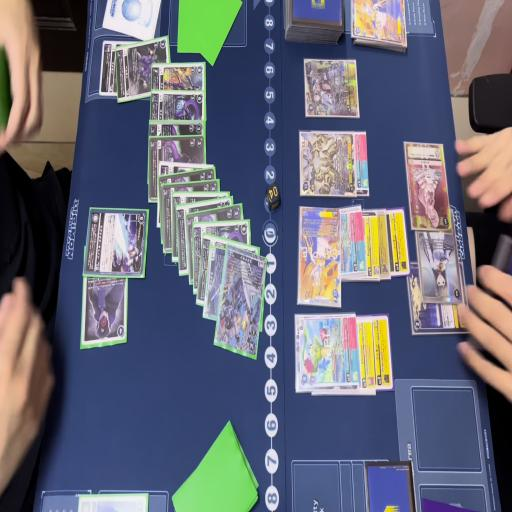card: (214, 244, 266, 358), (178, 204, 243, 291), (295, 313, 360, 391), (189, 220, 251, 300), (83, 207, 148, 278), (297, 207, 341, 307), (159, 179, 219, 252), (176, 198, 234, 273), (404, 142, 452, 231), (407, 262, 464, 335), (148, 135, 208, 203), (169, 191, 229, 258), (114, 36, 168, 107), (415, 230, 465, 304), (300, 132, 356, 196), (81, 277, 128, 348), (304, 58, 359, 118), (350, 0, 407, 52), (196, 233, 228, 305), (339, 205, 368, 278), (151, 60, 209, 89), (151, 90, 207, 120), (386, 207, 410, 276), (203, 246, 225, 320), (362, 210, 381, 280), (79, 493, 148, 512), (374, 317, 392, 388), (159, 163, 217, 185), (149, 120, 208, 141), (358, 320, 376, 388), (97, 37, 118, 95), (157, 158, 212, 176), (377, 209, 391, 278), (354, 132, 369, 196), (238, 227, 250, 242)
